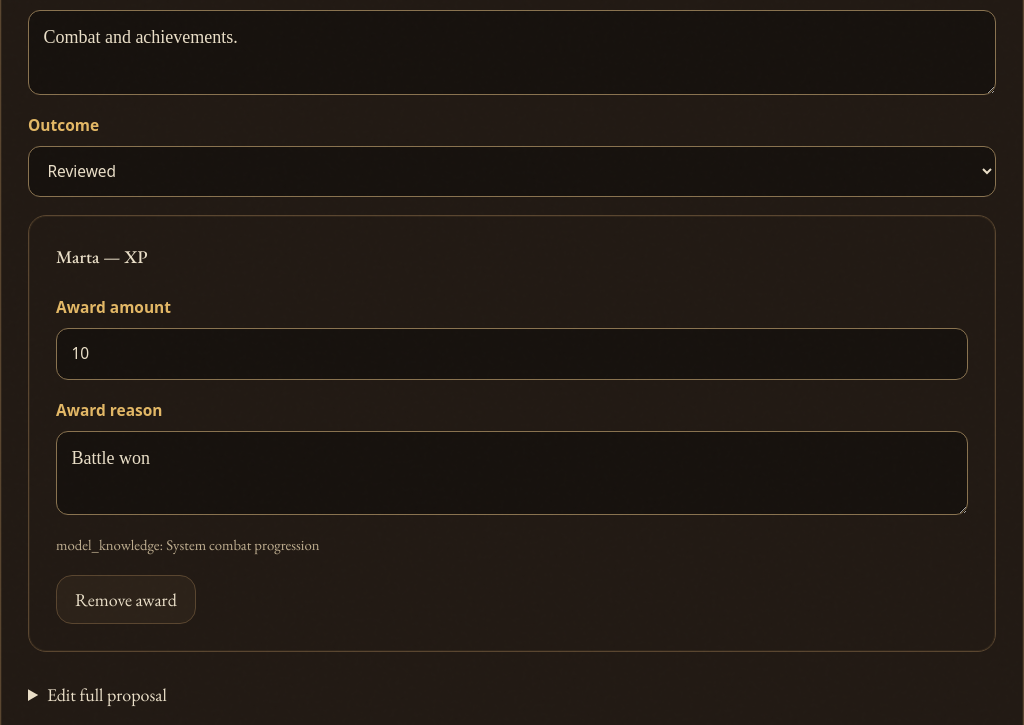
Test: stages direct edits, applies only the saved digest and tells the player to update manually
The width and height of the screenshot is (1024, 725).
(page scrolled)
Replace the text in the number field labelled "Award amount" with "15.5". click: (512, 354)
box: [56, 328, 968, 380]
(page scrolled)
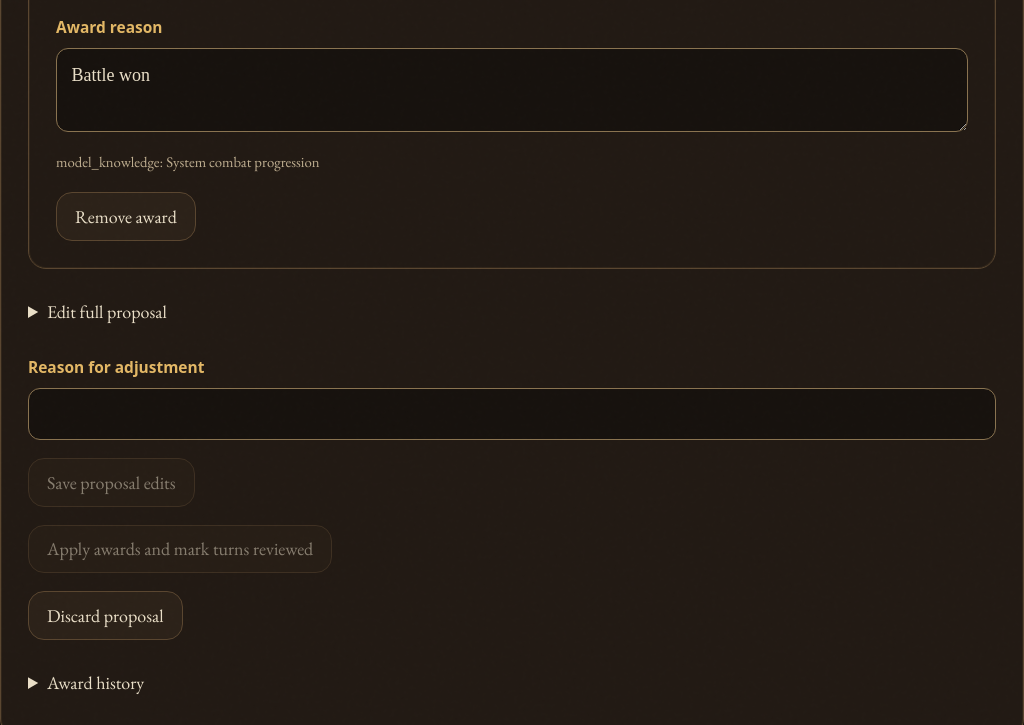
Now the button "Apply awards and mark turns reviewed" is disabled, box [28, 525, 332, 574]
Type "Correct battle reward" into the field labelled "Reason for adjustment". click: (512, 414)
box: [28, 388, 996, 440]
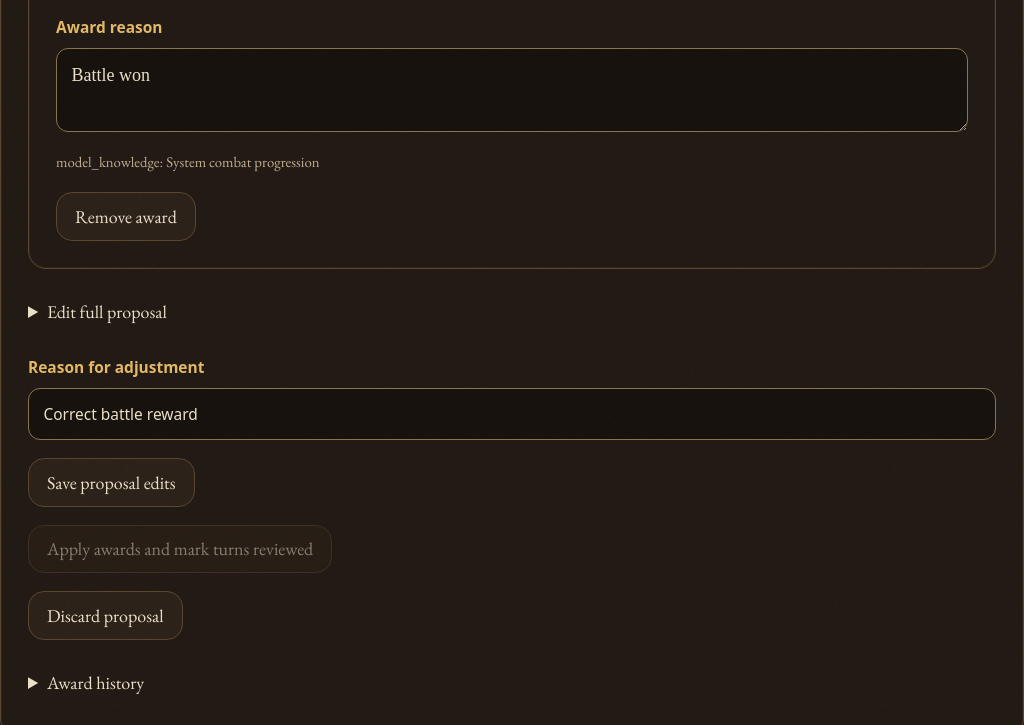
Click the button "Save proposal edits". click: (111, 482)
box: [28, 458, 194, 507]
(page scrolled)
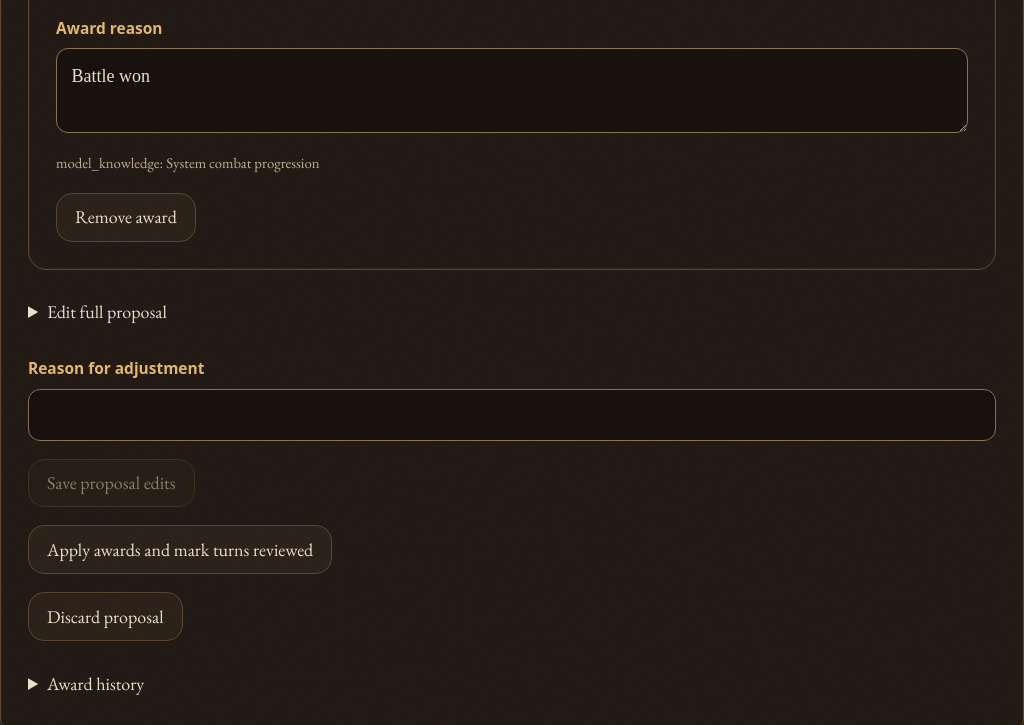
Now the button "Apply awards and mark turns reviewed" is enabled
Click the button "Apply awards and mark turns reviewed". click: (180, 550)
box: [28, 526, 332, 574]
(page scrolled)
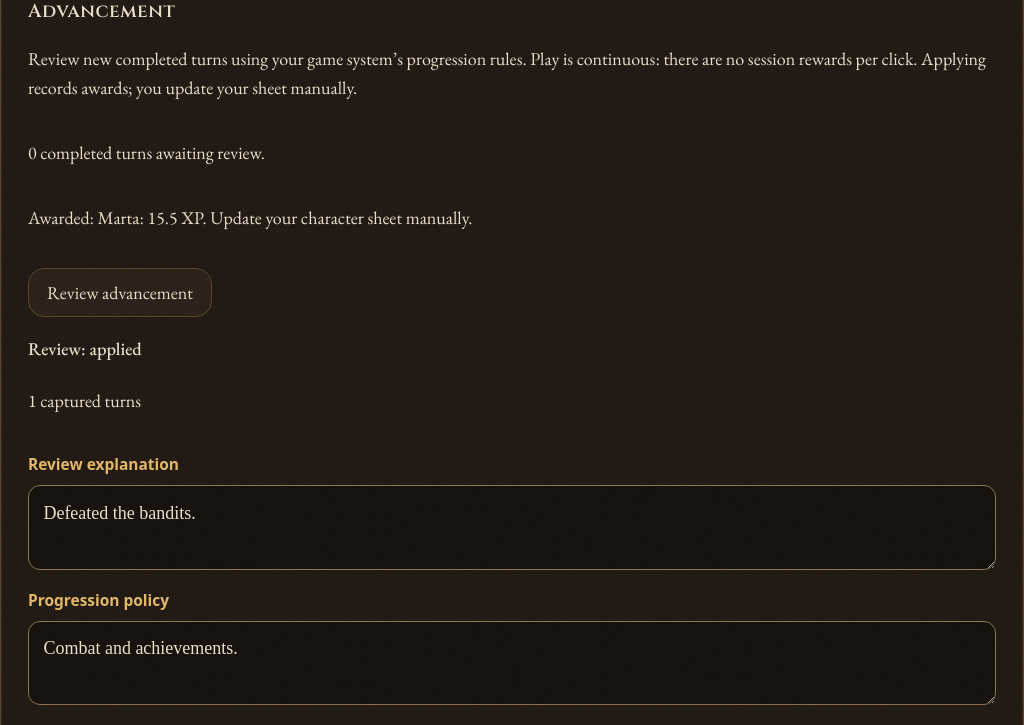
Now the text "Awarded: Marta: 15.5 XP. Update your character sheet manually." is shown, box [28, 206, 472, 229]
